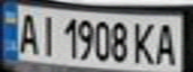0: (93, 17, 112, 62)
1: (57, 15, 78, 58)
8: (109, 18, 133, 64)
9: (75, 16, 93, 61)
A: (151, 19, 184, 66), (12, 9, 42, 55)
I: (33, 11, 60, 57)
K: (130, 18, 160, 65)
